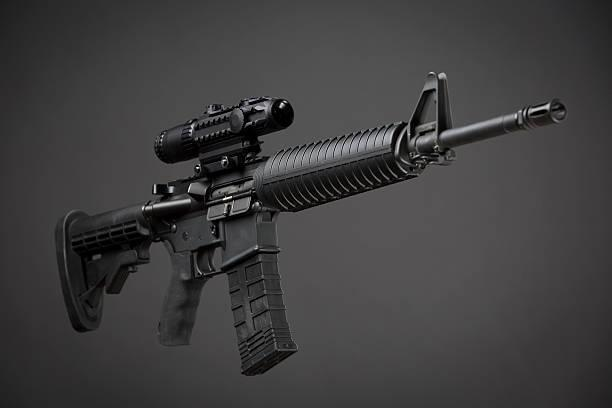larga: (52, 71, 568, 376)
